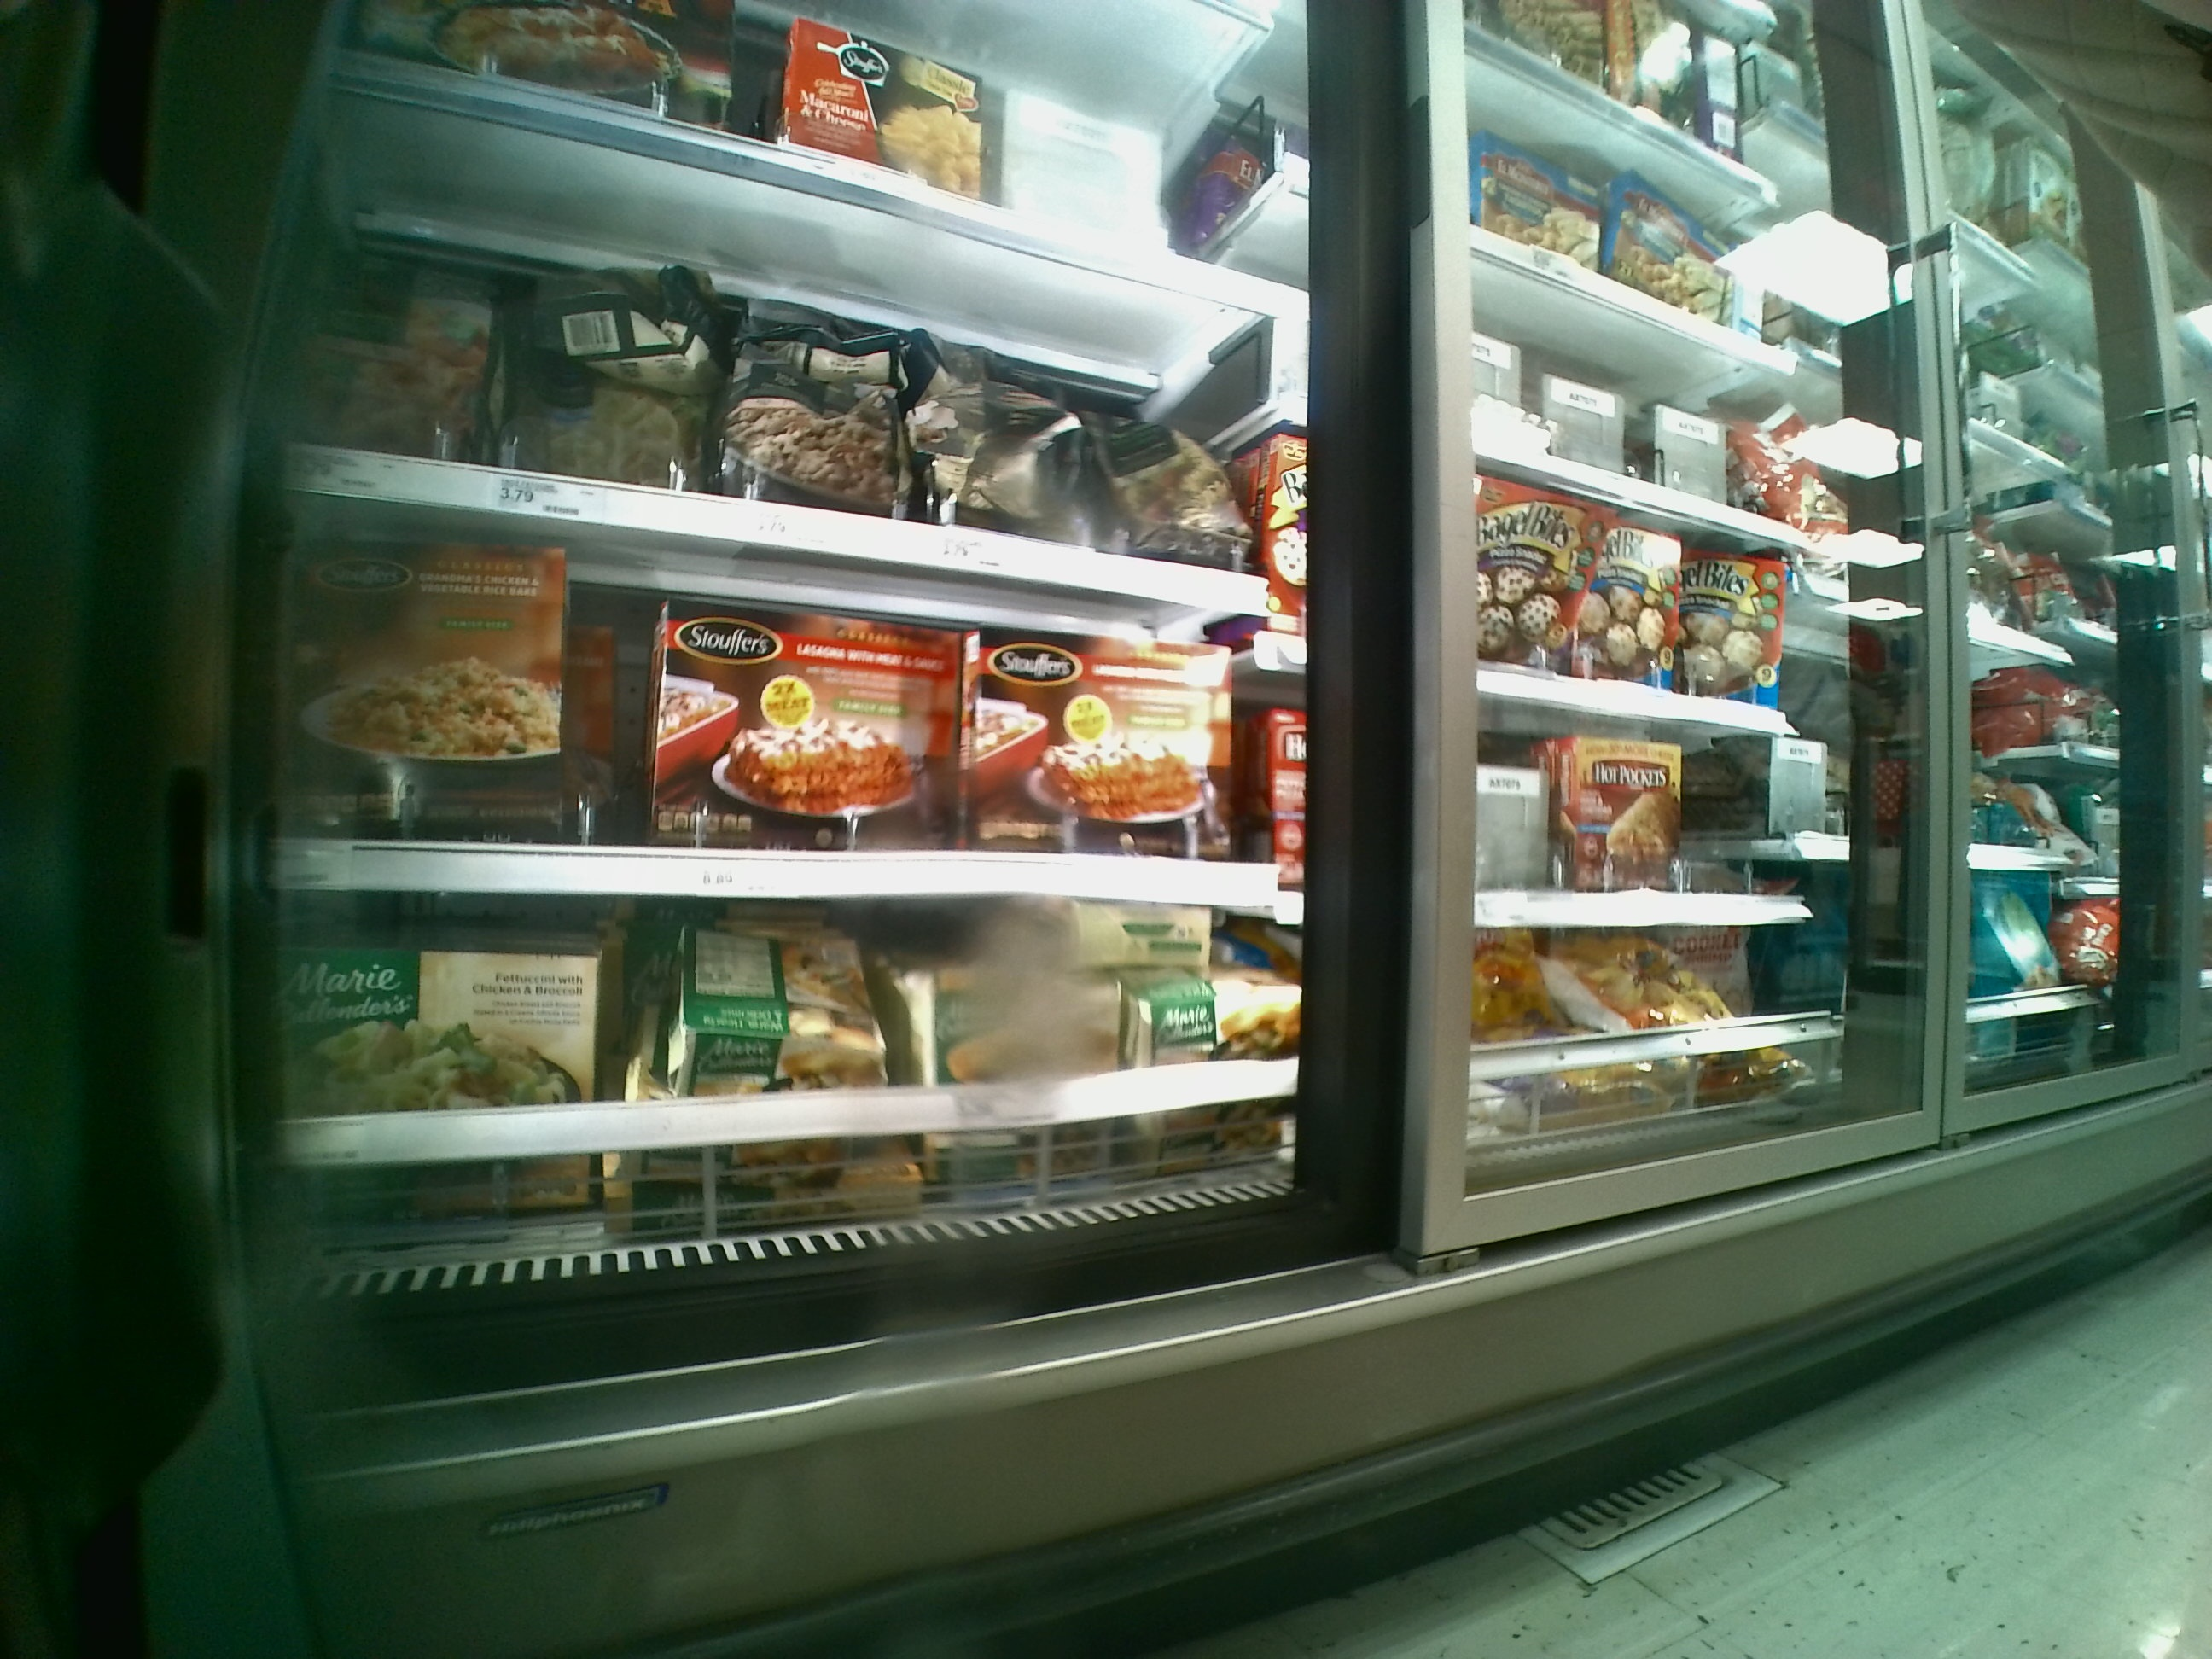shelf: (286, 906, 1308, 1274), (275, 235, 1301, 572), (280, 577, 1305, 899)
